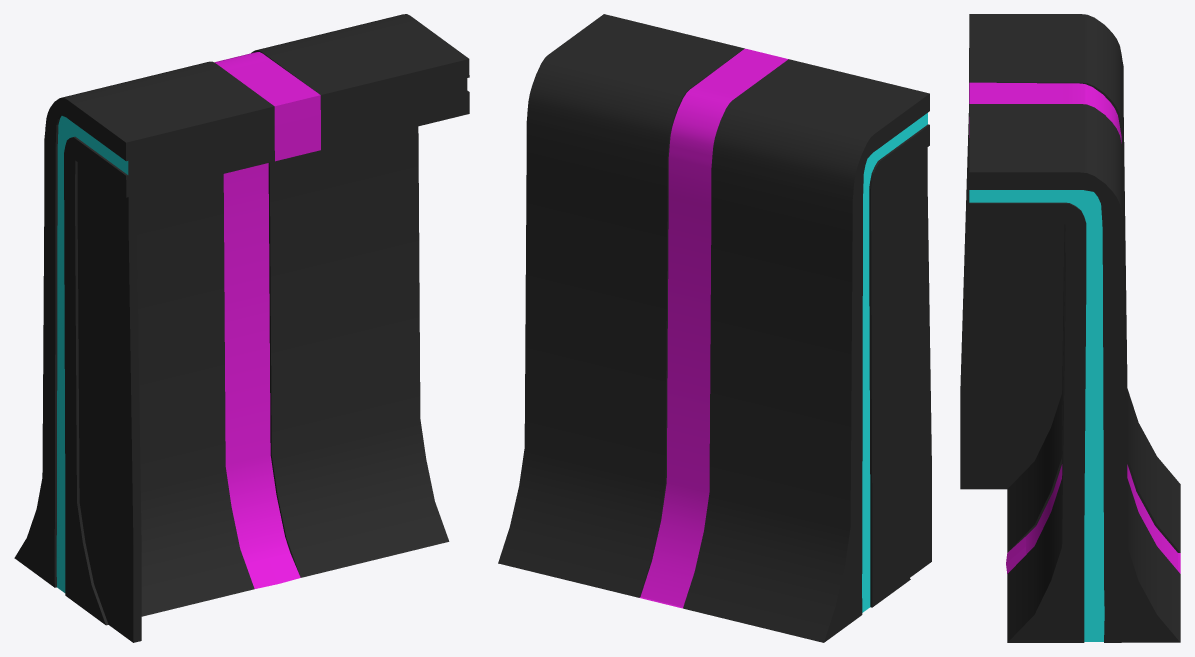
Rendered from low poly bench 4.fbx.
3 renders of one model, left to right at view 1: azimuth 30°, elevation 25°; view 2: azimuth 150°, elevation 25°; view 3: azimuth 270°, elevation 25°, orthographic. The views are drawn at different scales.
Parts seen in each view (by area): view 1: Box037; view 2: Box037; view 3: Box037.
Part boxes in pixels (x1=…): Box037: x1=14, y1=14, x2=469, y2=642; Box037: x1=498, y1=14, x2=931, y2=642; Box037: x1=960, y1=14, x2=1180, y2=642.
Bounding box in the file's own units: 19.63 × 27.2 × 11.53.
